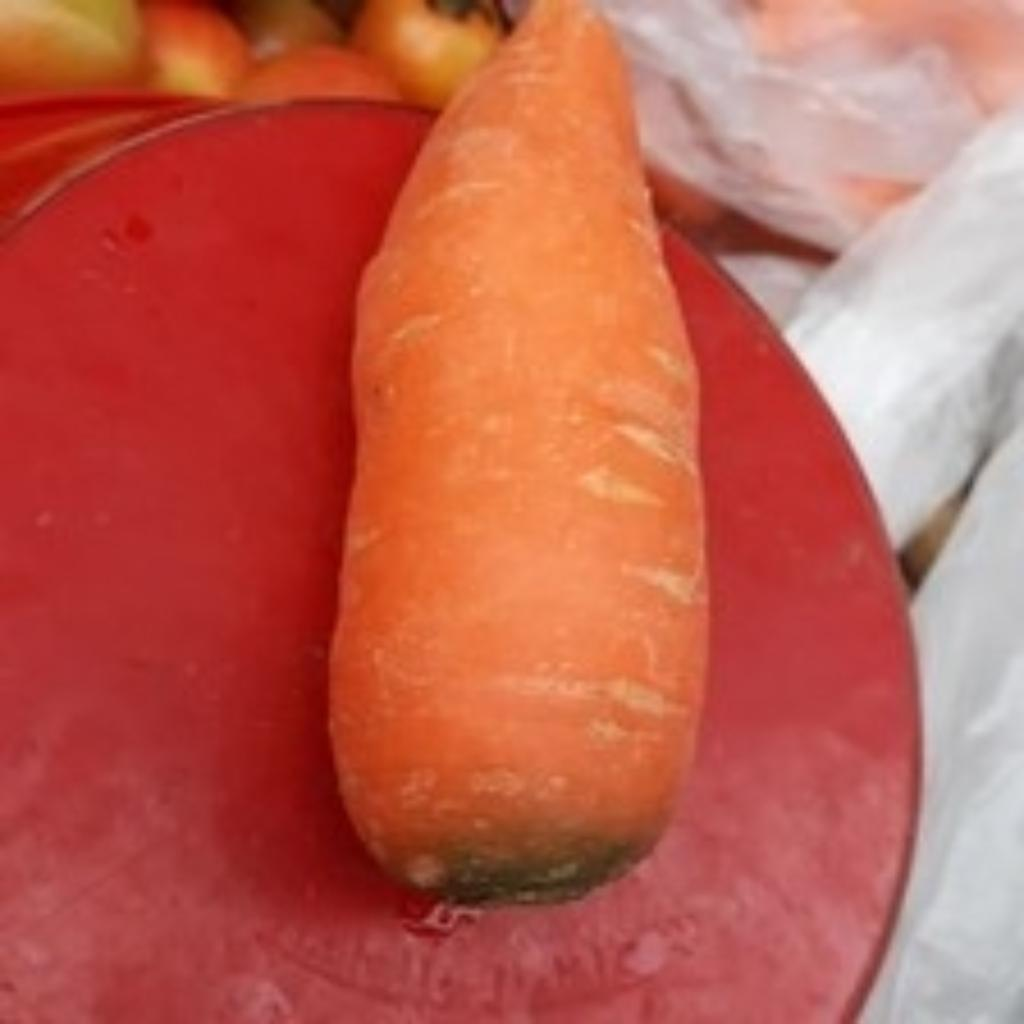carrot: (325, 0, 699, 891)
